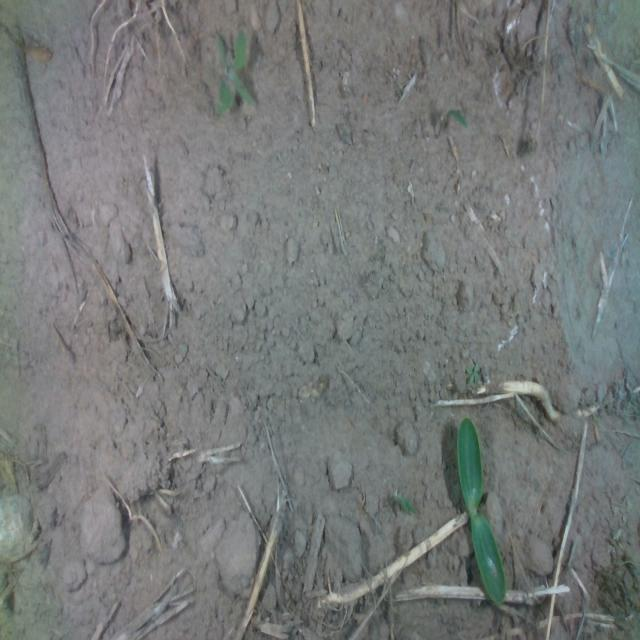crop: (456, 414, 506, 604)
weed: (214, 25, 256, 113), (464, 359, 480, 385)
